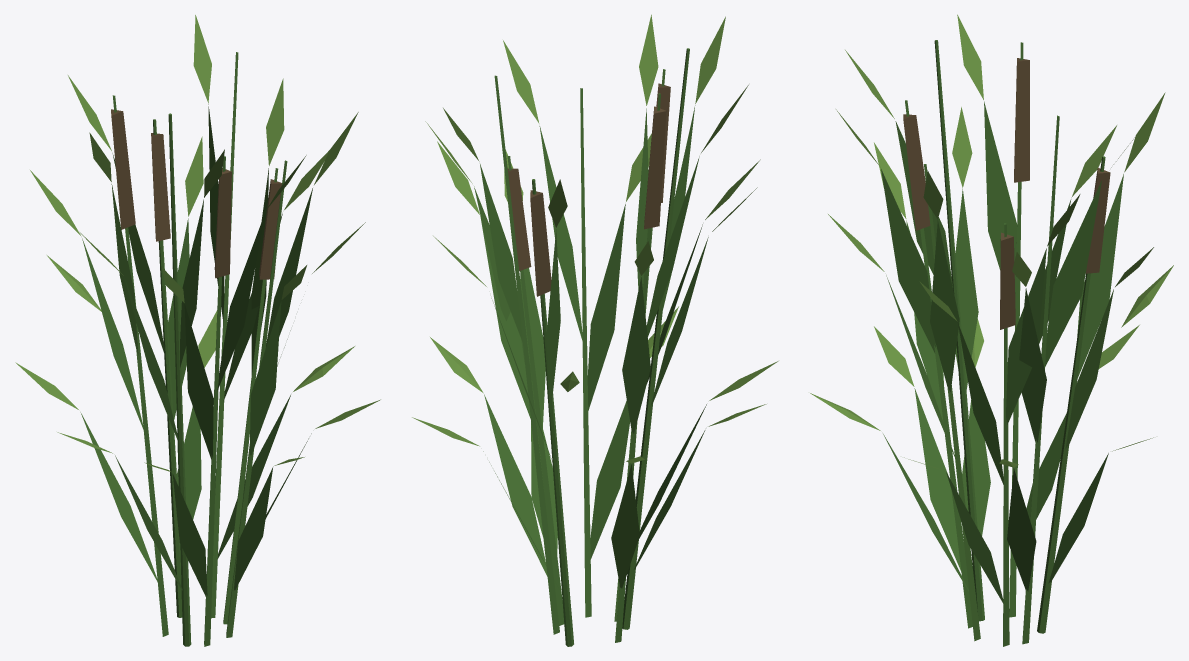
Rendered from reed_lod1.gltf.
The picture shows the model from 3 angles, left to right: view 1: azimuth 30°, elevation 25°; view 2: azimuth 150°, elevation 25°; view 3: azimuth 270°, elevation 25°; orthographic projection. The views are drawn at different scales.
Visible parts, largest first — view 1: reed_original_lod1; view 2: reed_original_lod1; view 3: reed_original_lod1.
Boxes of the visible parts, left/top/right/bottom form: reed_original_lod1: left=15, top=15, right=380, bottom=646; reed_original_lod1: left=412, top=14, right=778, bottom=646; reed_original_lod1: left=810, top=14, right=1173, bottom=646.
Bounding box in the file's own units: 0.68 × 1.15 × 0.68.
